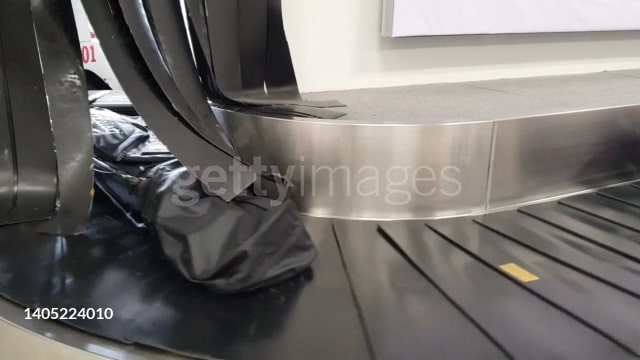baggage: (87, 84, 322, 297)
